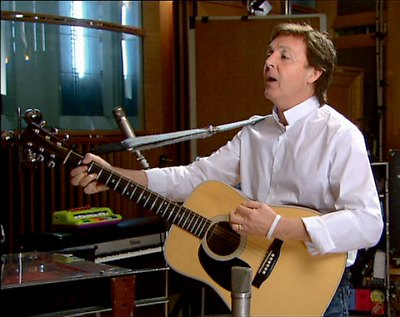guitar: (15, 121, 349, 317)
